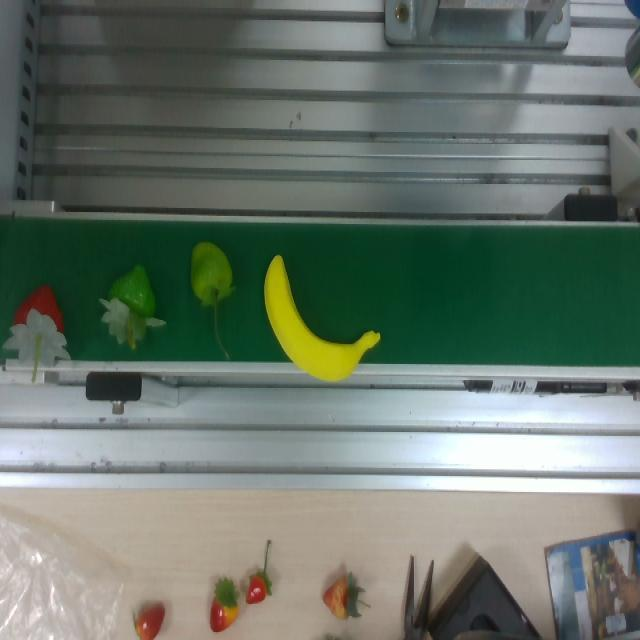None - Strawberry: (260, 248, 383, 385)
Small Ripe Strawberry: (15, 274, 69, 374)
Small Unripe Strawberry: (103, 264, 164, 359), (182, 236, 242, 314)
conveyor: (1, 215, 639, 375)
